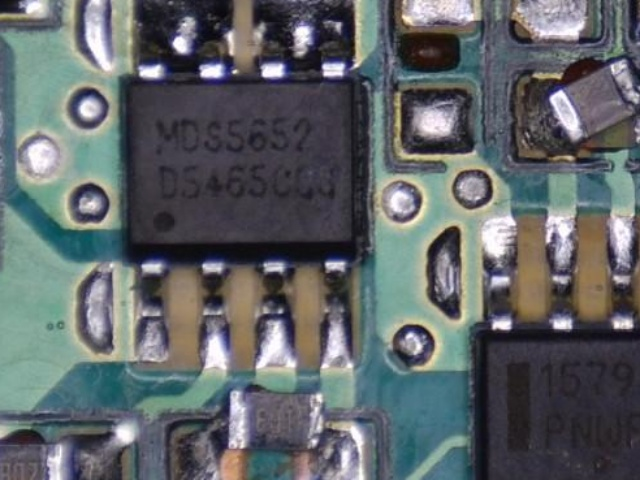pcb_defect: (175, 390, 362, 480), (523, 54, 640, 156), (634, 0, 640, 34)
